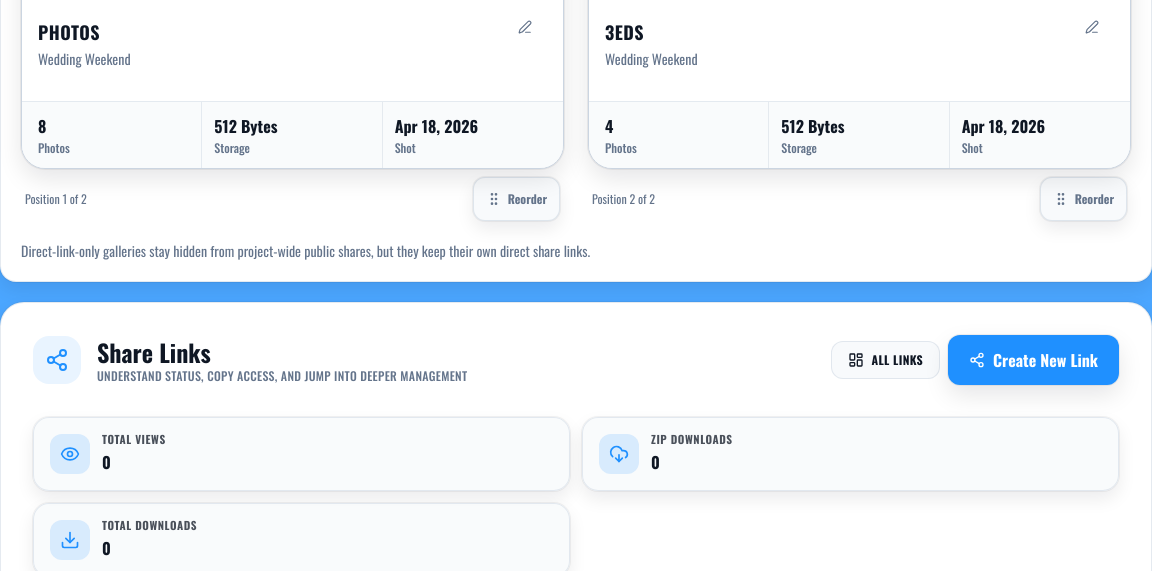
Scenario: ProjectPage › lets project share creation expose selection settings
(page scrolled)
Expected: the heading "Share Links" is shown, [97, 334, 211, 370]
Click the button with aria-label "create new share link".
click(1034, 360)  # box [948, 335, 1119, 385]
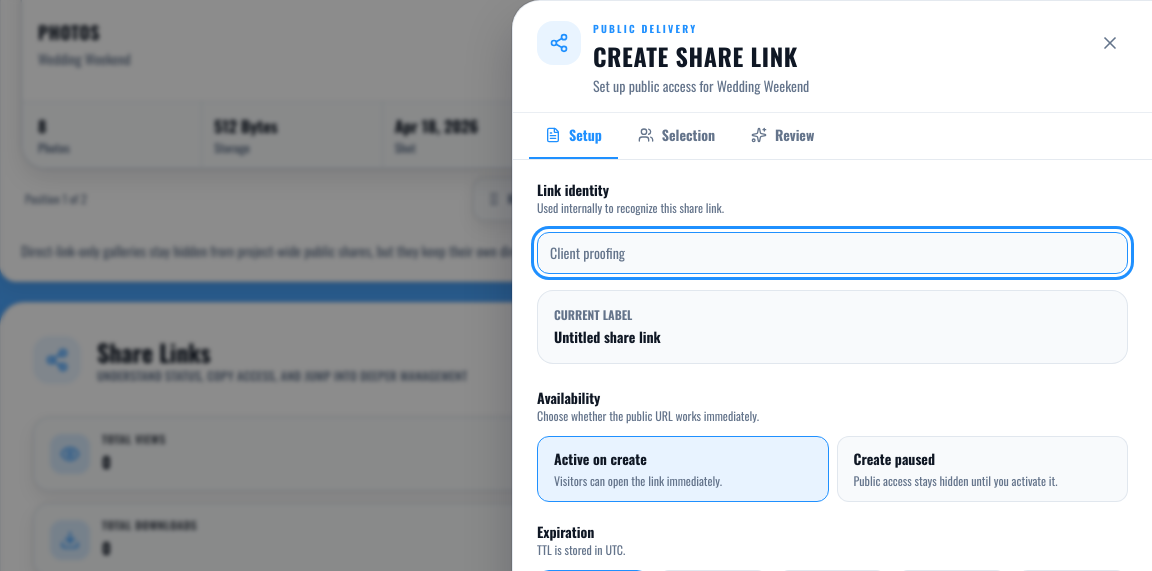
Now the tab "Selection" is shown
Click the tab "Selection".
click(676, 136)  # box [622, 113, 731, 159]
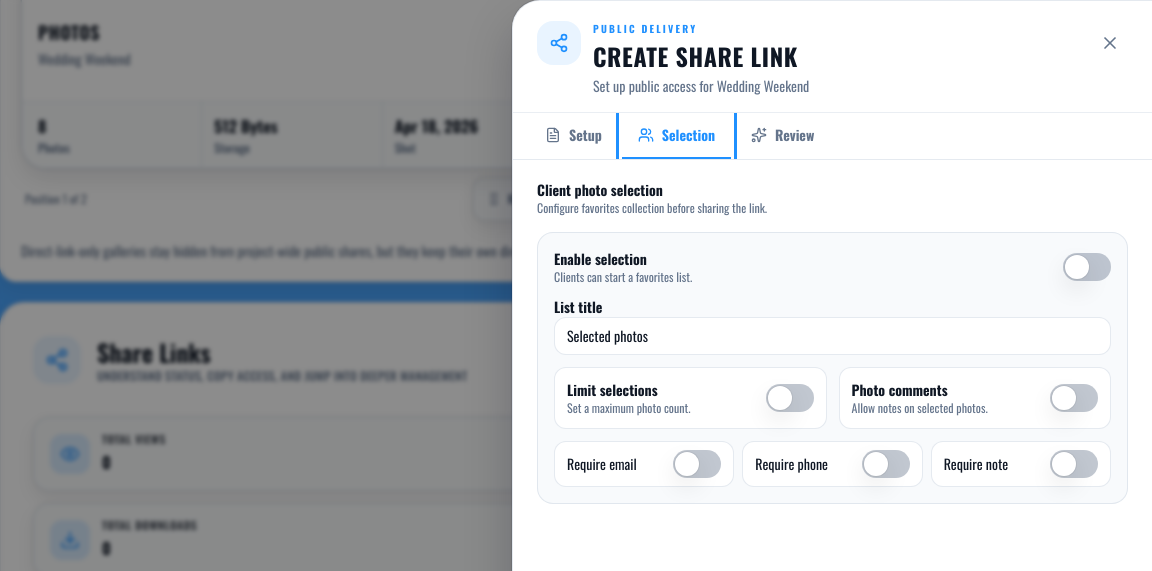
Now the heading "Client photo selection" is shown, box [537, 179, 663, 200]
